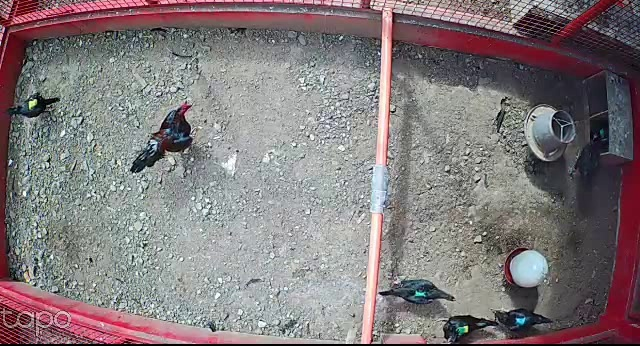Chicken: (375, 274, 459, 307), (436, 313, 500, 346), (563, 130, 603, 181), (8, 86, 62, 123), (491, 305, 554, 333)
Drinker: (503, 247, 551, 290)
Feeder: (522, 103, 578, 163)
Rooster: (129, 99, 203, 176)
Saddle_Color_Blue: (516, 316, 525, 324)
Saddle_Color_Yellow: (27, 97, 37, 109)
Saddle_Color_YellowGreen: (457, 325, 469, 335)
